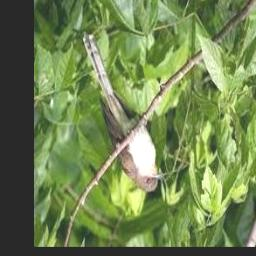Cuckoo: (81, 33, 165, 192)
